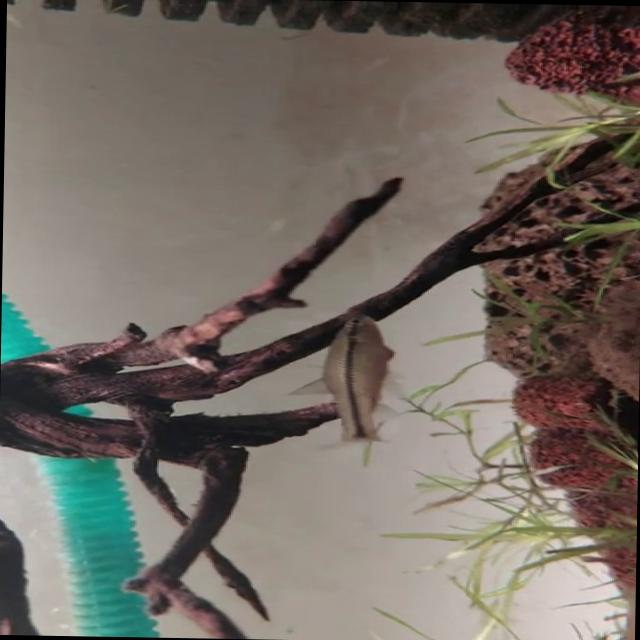Cakil Baligi: (296, 305, 396, 453)
